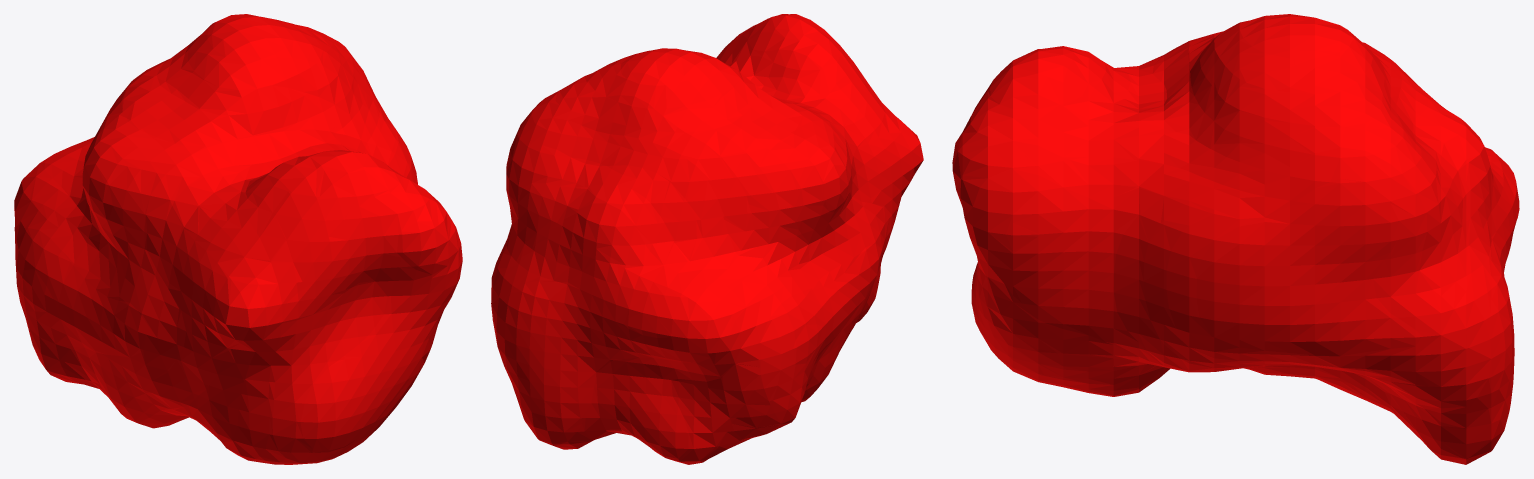
Rendered from trxC_coarse.dae.
3 views of the same model, side by side, from view 1: azimuth 30°, elevation 25°; view 2: azimuth 150°, elevation 25°; view 3: azimuth 270°, elevation 25° (orthographic). The views are drawn at different scales.
Parts seen in each view (by area): view 1: trxC; view 2: trxC; view 3: trxC.
Part boxes in pixels (box(x1,y1,x2,y2)): trxC: box(14, 14, 462, 464); trxC: box(491, 14, 923, 464); trxC: box(952, 14, 1519, 464).
Size of the model in its own units: 33.78 by 37.41 by 45.9.
